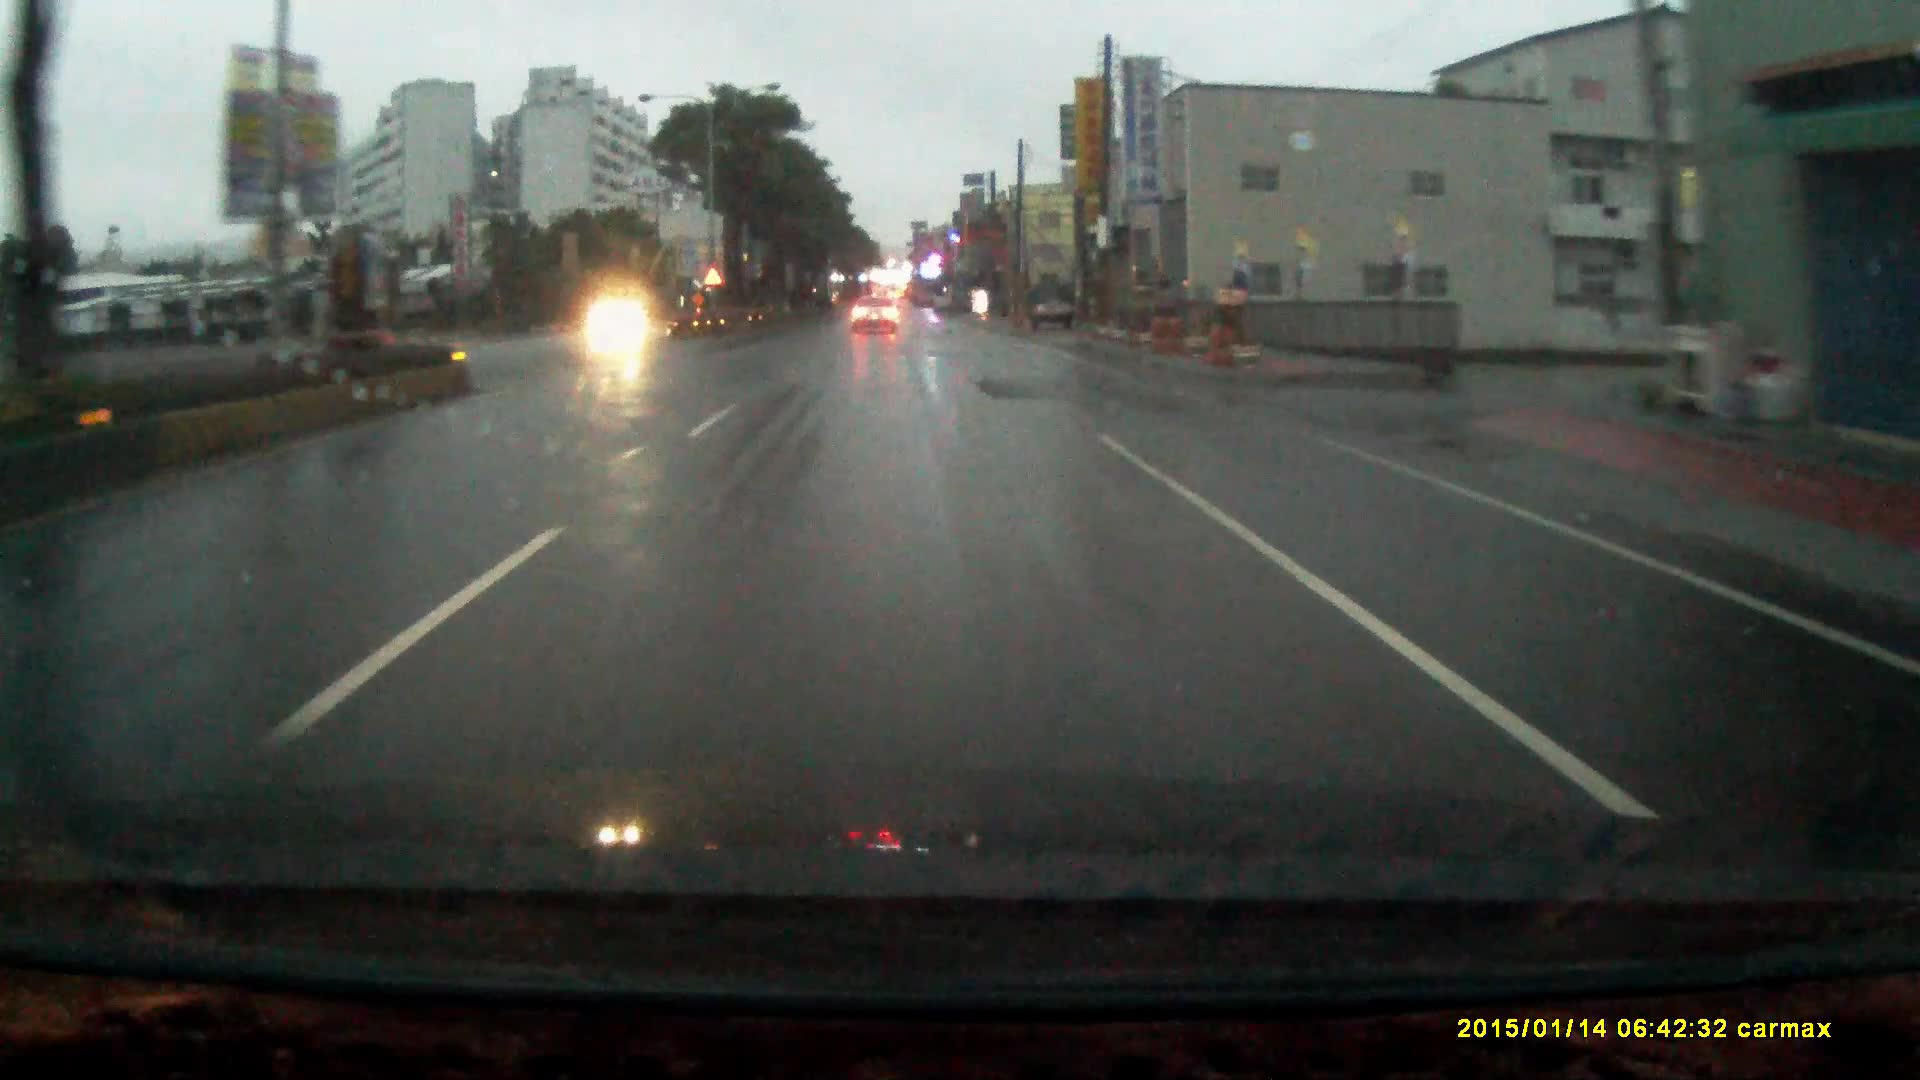vehicle: (1031, 287, 1075, 336), (848, 299, 899, 336)
